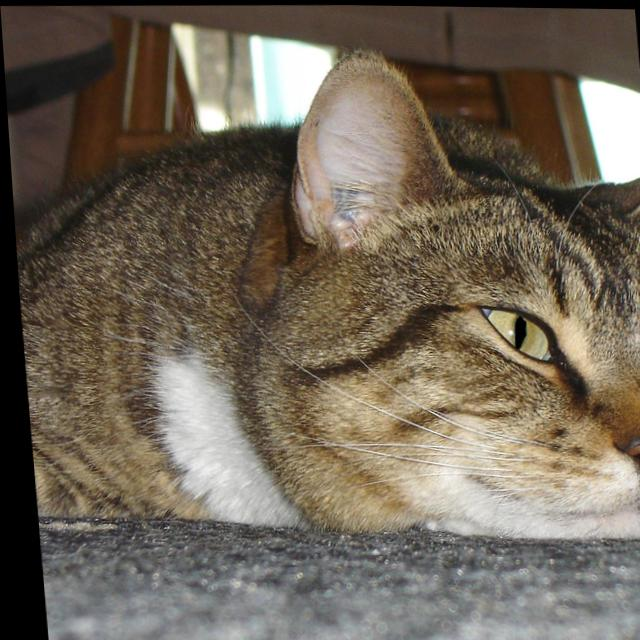animals: (303, 53, 640, 487)
